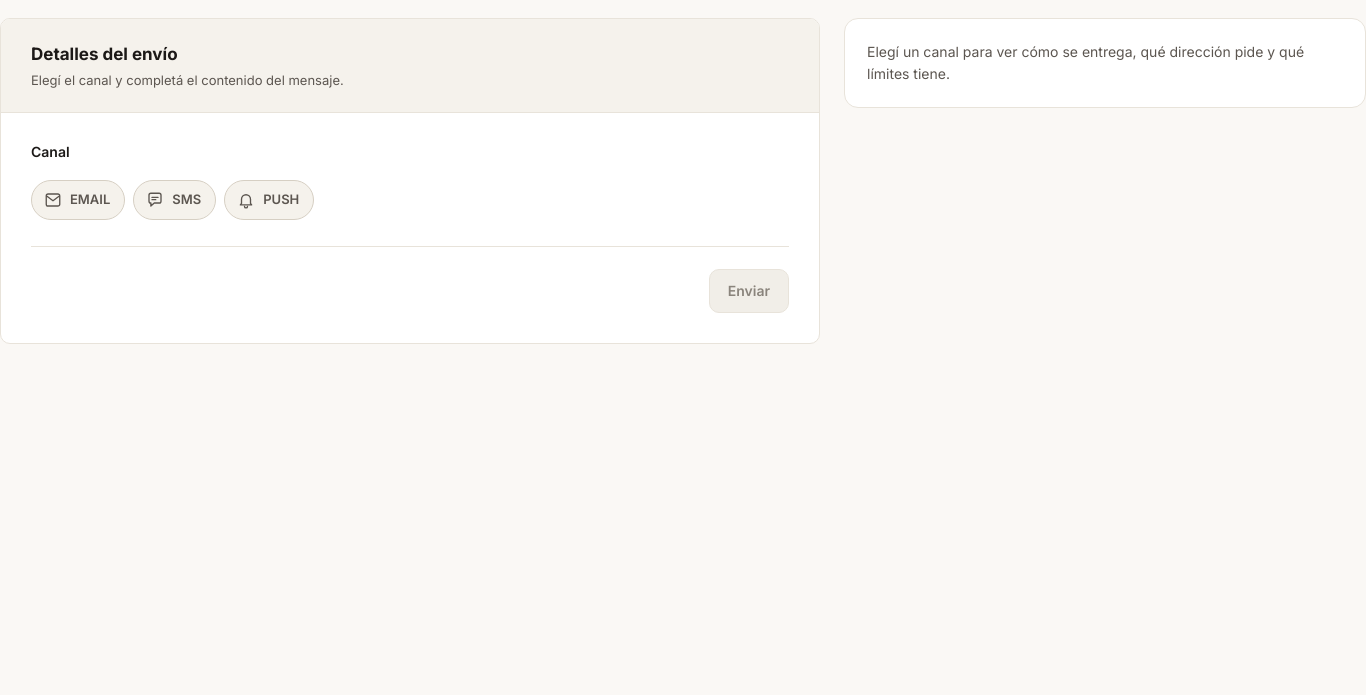
Test: NuevaNotificacion (validaciones) › en EMAIL el mensaje muestra el tope global de 32.768 caracteres
The image size is (1366, 695).
Click the radio button labelled "EMAIL".
click(78, 200)  # box [31,180,125,220]
(page scrolled)
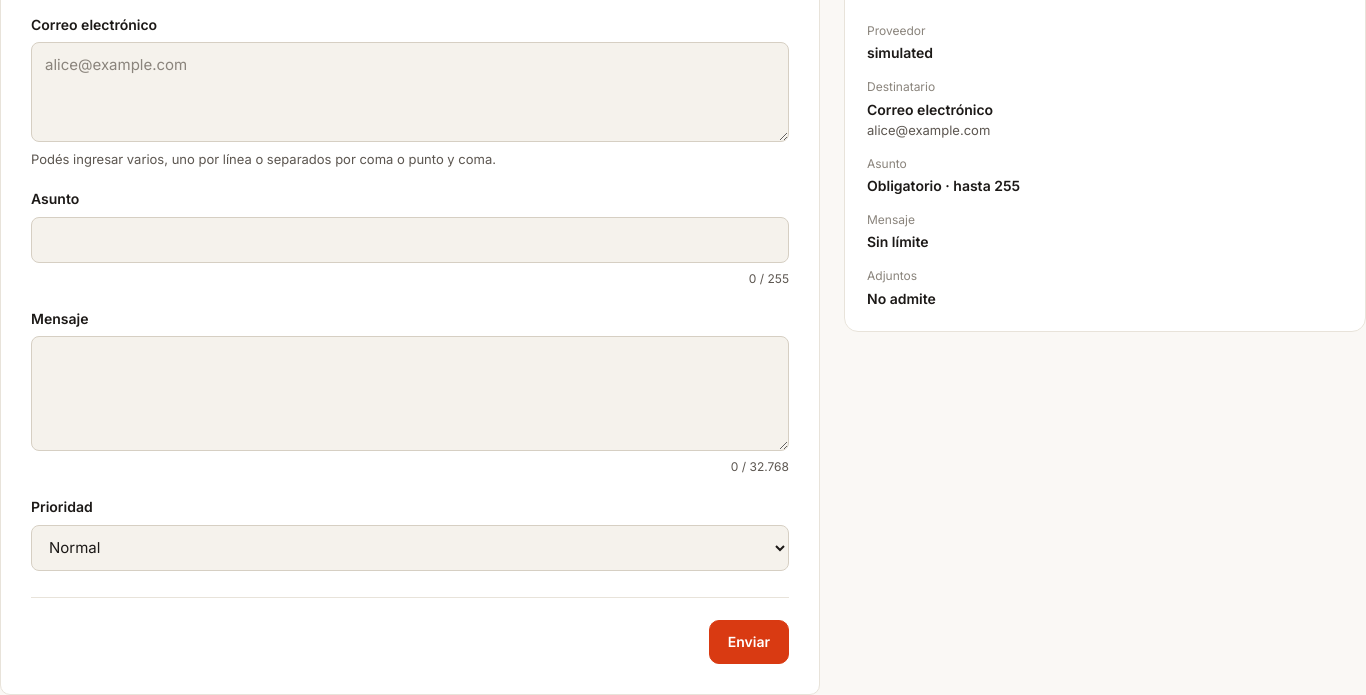
Expected: the text "0 / 32.768" is shown, [731,458,789,477]
